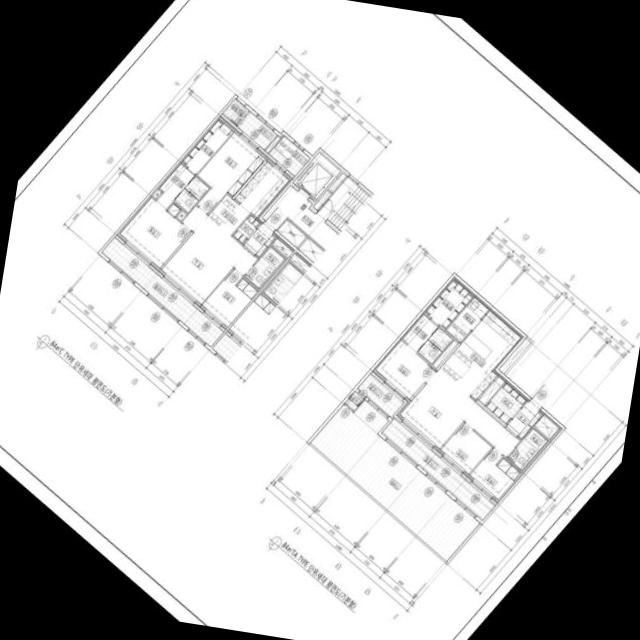background: (0, 0, 640, 640)
space_balconi: (357, 373, 494, 520), (101, 237, 222, 346), (268, 136, 309, 176), (237, 112, 276, 149)
space_bedroom: (197, 130, 267, 214), (116, 196, 190, 270), (372, 340, 436, 401), (200, 269, 258, 329), (467, 448, 522, 502), (438, 422, 491, 476)
space_dressroom: (180, 116, 234, 174), (423, 277, 474, 329), (155, 162, 194, 210), (400, 312, 438, 352)
space_elevator: (292, 152, 340, 201)
space_elevator_hall: (262, 185, 338, 250)
space_front: (505, 400, 543, 439), (243, 223, 277, 257)
space_kitchen: (437, 309, 522, 400), (207, 159, 291, 235)
space_living_room: (396, 371, 519, 457), (159, 205, 257, 306)
space_multipurpose_space: (445, 296, 489, 342)
space_other: (485, 381, 527, 424), (312, 173, 346, 210), (498, 337, 531, 374), (277, 219, 306, 248), (232, 215, 261, 243), (478, 375, 505, 405), (432, 340, 457, 368), (534, 414, 559, 439), (298, 238, 323, 262), (271, 237, 293, 258), (265, 135, 283, 153), (176, 210, 186, 221), (151, 188, 161, 199)
space_outdoor_room: (222, 98, 248, 125), (344, 391, 363, 411)
space_staircase: (317, 177, 370, 231)
space_toilet: (244, 246, 285, 289), (507, 428, 547, 470), (417, 327, 452, 363), (184, 176, 208, 200), (174, 189, 198, 212)
